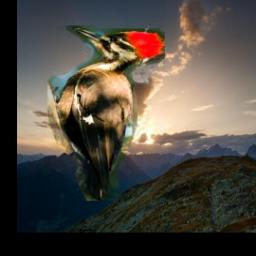Woodpecker: (44, 26, 165, 202)
